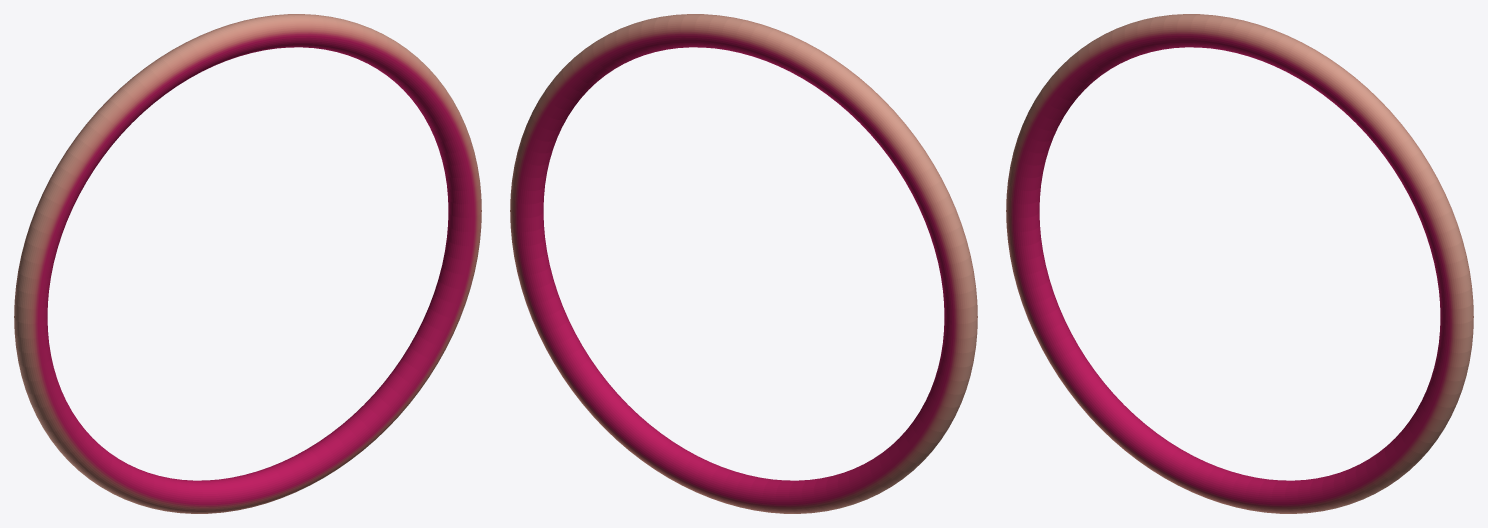
3 views of the same model, side by side, from view 1: azimuth 30°, elevation 25°; view 2: azimuth 150°, elevation 25°; view 3: azimuth 330°, elevation 25° (orthographic).
Parts seen in each view (by area): view 1: world; view 2: world; view 3: world.
Part boxes in pixels (x1,y1,x2,y2): world: (14,14,481,513); world: (510,14,977,513); world: (1006,14,1473,513).
Size of the model in its own units: 32 by 32 by 2.
